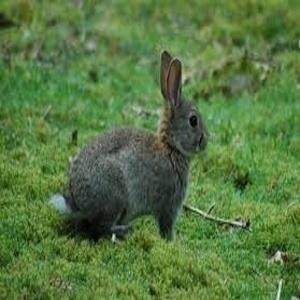rabbit: (50, 51, 207, 239)
